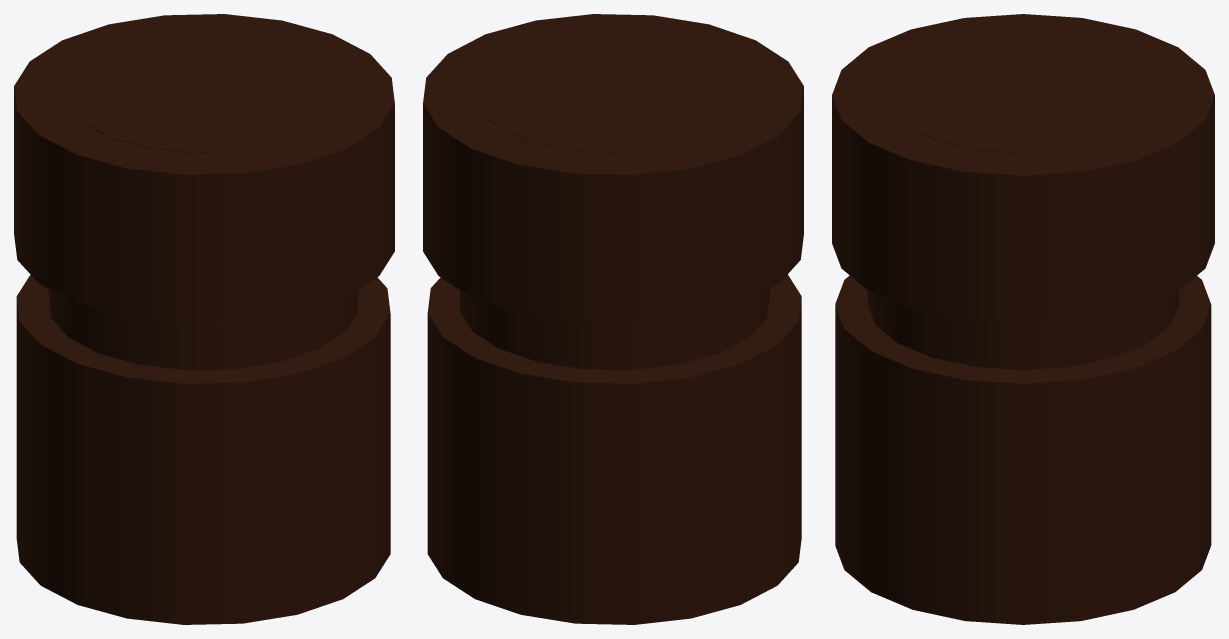
3 renders of one model, left to right at view 1: azimuth 30°, elevation 25°; view 2: azimuth 150°, elevation 25°; view 3: azimuth 270°, elevation 25°, orthographic.
Parts seen in each view (by area): view 1: 丸1_茶; view 2: 丸1_茶; view 3: 丸1_茶.
Part boxes in pixels (x1,y1,x2,y2): 丸1_茶: (14, 14, 394, 624); 丸1_茶: (423, 14, 803, 624); 丸1_茶: (832, 14, 1214, 624).
Bounding box in the file's own units: 0.0261 × 0.034 × 0.0261.
